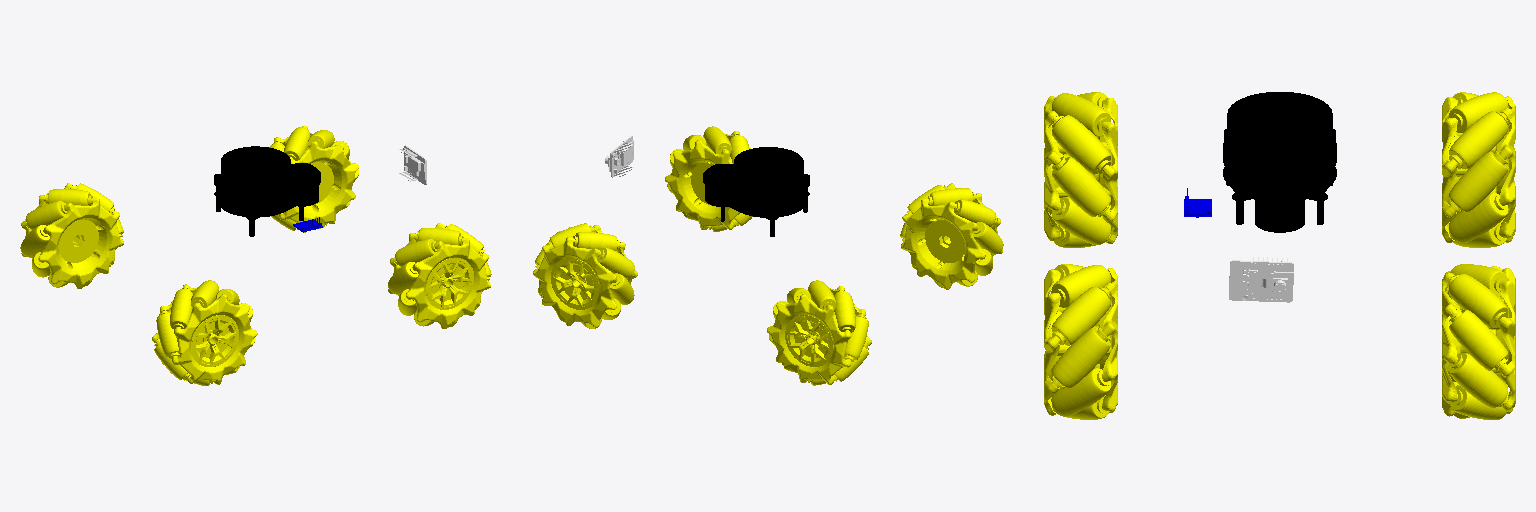
URDF robot description (MECNUMROBOT):
<?xml version="1.0" encoding="utf-8"?>
<!-- This URDF was automatically created by SolidWorks to URDF Exporter! Originally created by [author] ([email redacted]) 
     Commit Version: 1.6.0-4-g7f85cfe  Build Version: 1.6.7995.38578
     For more information, please see http://wiki.ros.org/sw_urdf_exporter -->
<robot
  name="MECNUMROBOT">
  <link
    name="base_link">
    <inertial>
      <origin
        xyz="0.0004486 0.00083903 -0.022532"
        rpy="0 0 0" />
      <mass
        value="3.558" />
      <inertia
        ixx="0.0092111"
        ixy="-1.6996E-05"
        ixz="4.6457E-06"
        iyy="0.019941"
        iyz="-1.5765E-07"
        izz="0.027091" />
    </inertial>
    <visual>
      <origin
        xyz="0 0 0"
        rpy="0 0 0" />
      <geometry>
        <mesh
          filename="package://MECNUMROBOT/meshes/base_link.STL" />
      </geometry>
      <material
        name="">
        <color
          rgba="1 0.5 0 1" />
      </material>
    </visual>
    <collision>
      <origin
        xyz="0 0 0"
        rpy="0 0 0" />
      <geometry>
        <mesh
          filename="package://MECNUMROBOT/meshes/base_link.STL" />
      </geometry>
    </collision>
  </link>
  <link
    name="rear_right_wheel">
    <inertial>
      <origin
        xyz="-2.2835E-06 3.7979E-07 0.00071836"
        rpy="0 0 0" />
      <mass
        value="1.0289" />
      <inertia
        ixx="0.00017755"
        ixy="1.2488E-08"
        ixz="-2.5268E-09"
        iyy="0.00017761"
        iyz="-1.3435E-08"
        izz="0.00022365" />
    </inertial>
    <visual>
      <origin
        xyz="0 0 0"
        rpy="0 0 0" />
      <geometry>
        <mesh
          filename="package://MECNUMROBOT/meshes/rear_right_wheel.STL" />
      </geometry>
      <material
        name="">
        <color
          rgba="1 1 0 1" />
      </material>
    </visual>
    <collision>
      <origin
        xyz="0 0 0"
        rpy="0 0 0" />
      <geometry>
        <mesh
          filename="package://MECNUMROBOT/meshes/rear_right_wheel.STL" />
      </geometry>
    </collision>
  </link>
  <joint
    name="rear_right_wheel_wheel"
    type="continuous">
    <origin
      xyz="-0.1265 -0.12365 -0.03885"
      rpy="-1.5708 0 -3.1416" />
    <parent
      link="base_link" />
    <child
      link="rear_right_wheel" />
    <axis
      xyz="0 0 1" />
  </joint>
  <link
    name="front_right_wheel">
    <inertial>
      <origin
        xyz="1.4264E-06 1.6554E-06 0.00077886"
        rpy="0 0 0" />
      <mass
        value="1.0289" />
      <inertia
        ixx="0.00017758"
        ixy="-3.4031E-08"
        ixz="1.0423E-08"
        iyy="0.00017757"
        iyz="-8.8206E-09"
        izz="0.00022365" />
    </inertial>
    <visual>
      <origin
        xyz="0 0 0"
        rpy="0 0 0" />
      <geometry>
        <mesh
          filename="package://MECNUMROBOT/meshes/front_right_wheel.STL" />
      </geometry>
      <material
        name="">
        <color
          rgba="1 1 0 1" />
      </material>
    </visual>
    <collision>
      <origin
        xyz="0 0 0"
        rpy="0 0 0" />
      <geometry>
        <mesh
          filename="package://MECNUMROBOT/meshes/front_right_wheel.STL" />
      </geometry>
    </collision>
  </link>
  <joint
    name="front_right_wheel_joint"
    type="continuous">
    <origin
      xyz="0.1265 -0.12365 -0.03885"
      rpy="-1.5708 0 -3.1416" />
    <parent
      link="base_link" />
    <child
      link="front_right_wheel" />
    <axis
      xyz="0 0 1" />
  </joint>
  <link
    name="front_left_wheel">
    <inertial>
      <origin
        xyz="1.405E-06 -1.8181E-06 -0.00071849"
        rpy="0 0 0" />
      <mass
        value="1.0289" />
      <inertia
        ixx="0.00017759"
        ixy="3.2579E-08"
        ixz="1.1318E-08"
        iyy="0.00017757"
        iyz="7.7617E-09"
        izz="0.00022365" />
    </inertial>
    <visual>
      <origin
        xyz="0 0 0"
        rpy="0 0 0" />
      <geometry>
        <mesh
          filename="package://MECNUMROBOT/meshes/front_left_wheel.STL" />
      </geometry>
      <material
        name="">
        <color
          rgba="1 1 0 1" />
      </material>
    </visual>
    <collision>
      <origin
        xyz="0 0 0"
        rpy="0 0 0" />
      <geometry>
        <mesh
          filename="package://MECNUMROBOT/meshes/front_left_wheel.STL" />
      </geometry>
    </collision>
  </link>
  <joint
    name="front_left_wheel_joint"
    type="continuous">
    <origin
      xyz="0.1265 0.12365 -0.03885"
      rpy="-1.5708 0 -3.1416" />
    <parent
      link="base_link" />
    <child
      link="front_left_wheel" />
    <axis
      xyz="0 0 1" />
  </joint>
  <link
    name="rear_left_wheel">
    <inertial>
      <origin
        xyz="-1.5059E-06 1.5491E-06 -0.00077889"
        rpy="0 0 0" />
      <mass
        value="1.0289" />
      <inertia
        ixx="0.00017758"
        ixy="3.4608E-08"
        ixz="9.6664E-09"
        iyy="0.00017758"
        iyz="9.6256E-09"
        izz="0.00022365" />
    </inertial>
    <visual>
      <origin
        xyz="0 0 0"
        rpy="0 0 0" />
      <geometry>
        <mesh
          filename="package://MECNUMROBOT/meshes/rear_left_wheel.STL" />
      </geometry>
      <material
        name="">
        <color
          rgba="1 1 0 1" />
      </material>
    </visual>
    <collision>
      <origin
        xyz="0 0 0"
        rpy="0 0 0" />
      <geometry>
        <mesh
          filename="package://MECNUMROBOT/meshes/rear_left_wheel.STL" />
      </geometry>
    </collision>
  </link>
  <joint
    name="rear_left_wheel_joint"
    type="continuous">
    <origin
      xyz="-0.1265 0.12365 -0.03885"
      rpy="-1.5708 0 -3.1416" />
    <parent
      link="base_link" />
    <child
      link="rear_left_wheel" />
    <axis
      xyz="0 0 1" />
  </joint>
  <link
    name="lidar">
    <inertial>
      <origin
        xyz="0.0082941 1.1168E-14 -0.0085489"
        rpy="0 0 0" />
      <mass
        value="0.1467" />
      <inertia
        ixx="6.2272E-05"
        ixy="-6.6101E-18"
        ixz="1.8866E-05"
        iyy="0.00010967"
        iyz="2.1232E-16"
        izz="0.00012568" />
    </inertial>
    <visual>
      <origin
        xyz="0 0 0"
        rpy="0 0 0" />
      <geometry>
        <mesh
          filename="package://MECNUMROBOT/meshes/lidar.STL" />
      </geometry>
      <material
        name="">
        <color
          rgba="0 0 0 1" />
      </material>
    </visual>
    <collision>
      <origin
        xyz="0 0 0"
        rpy="0 0 0" />
      <geometry>
        <mesh
          filename="package://MECNUMROBOT/meshes/lidar.STL" />
      </geometry>
    </collision>
  </link>
  <joint
    name="lidar_joint"
    type="fixed">
    <origin
      xyz="0 0 0.04625"
      rpy="0 0 0" />
    <parent
      link="base_link" />
    <child
      link="lidar" />
    <axis
      xyz="0 0 0" />
  </joint>
  <link
    name="camera">
    <inertial>
      <origin
        xyz="-0.0093756 -0.011232 0.00073677"
        rpy="0 0 0" />
      <mass
        value="0.0036832" />
      <inertia
        ixx="5.5289E-07"
        ixy="-3.5562E-08"
        ixz="3.9449E-09"
        iyy="1.8082E-07"
        iyz="9.4699E-09"
        izz="4.2671E-07" />
    </inertial>
    <visual>
      <origin
        xyz="0 0 0"
        rpy="0 0 0" />
      <geometry>
        <mesh
          filename="package://MECNUMROBOT/meshes/camera.STL" />
      </geometry>
      <material
        name="">
        <color
          rgba="1 1 1 1" />
      </material>
    </visual>
    <collision>
      <origin
        xyz="0 0 0"
        rpy="0 0 0" />
      <geometry>
        <mesh
          filename="package://MECNUMROBOT/meshes/camera.STL" />
      </geometry>
    </collision>
  </link>
  <joint
    name="camera_joint"
    type="fixed">
    <origin
      xyz="0.17435 0 0.02045"
      rpy="0 0 0" />
    <parent
      link="base_link" />
    <child
      link="camera" />
    <axis
      xyz="0 0 0" />
  </joint>
  <link
    name="imu">
    <inertial>
      <origin
        xyz="-3.9295E-05 -0.0014664 -0.00041921"
        rpy="0 0 0" />
      <mass
        value="0.00077106" />
      <inertia
        ixx="1.3877E-08"
        ixy="7.6765E-10"
        ixz="-7.5369E-15"
        iyy="2.6926E-08"
        iyz="-2.4674E-15"
        izz="3.9518E-08" />
    </inertial>
    <visual>
      <origin
        xyz="0 0 0"
        rpy="0 0 0" />
      <geometry>
        <mesh
          filename="package://MECNUMROBOT/meshes/imu.STL" />
      </geometry>
      <material
        name="">
        <color
          rgba="0 0 1 1" />
      </material>
    </visual>
    <collision>
      <origin
        xyz="0 0 0"
        rpy="0 0 0" />
      <geometry>
        <mesh
          filename="package://MECNUMROBOT/meshes/imu.STL" />
      </geometry>
    </collision>
  </link>
  <joint
    name="imu_joint"
    type="fixed">
    <origin
      xyz="0.026514 -0.050753 0.00761"
      rpy="0 0 0" />
    <parent
      link="base_link" />
    <child
      link="imu" />
    <axis
      xyz="0 0 0" />
  </joint>
</robot>

--- Facts derived from the render (not from the file) ---
Views: 3 orthographic renders of the robot side by side, from view 1: azimuth 30°, elevation 25°; view 2: azimuth 150°, elevation 25°; view 3: azimuth 270°, elevation 25°.
Model MECNUMROBOT with 8 links and 7 joints (4 continuous, 3 fixed), rooted at base_link, posed all joints at 0.
Links seen in each view (by area): view 1: rear_left_wheel, front_right_wheel, rear_right_wheel, lidar, front_left_wheel, camera; view 2: rear_right_wheel, rear_left_wheel, front_left_wheel, lidar, front_right_wheel, camera; view 3: lidar, front_left_wheel, front_right_wheel, rear_right_wheel, rear_left_wheel, camera, imu.
Link boxes in pixels (<box>): rear_left_wheel: <box>20,183,123,288</box>; front_right_wheel: <box>388,223,491,328</box>; rear_right_wheel: <box>152,280,257,385</box>; lidar: <box>214,146,320,236</box>; front_left_wheel: <box>269,126,358,232</box>; camera: <box>399,145,426,184</box>; rear_right_wheel: <box>900,183,1003,289</box>; rear_left_wheel: <box>767,280,871,385</box>; front_left_wheel: <box>533,223,637,328</box>; lidar: <box>703,147,809,236</box>; front_right_wheel: <box>665,126,752,231</box>; camera: <box>605,136,633,177</box>; lidar: <box>1223,92,1336,232</box>; front_left_wheel: <box>1442,264,1515,419</box>; front_right_wheel: <box>1044,264,1117,419</box>; rear_right_wheel: <box>1044,92,1117,247</box>; rear_left_wheel: <box>1442,92,1515,247</box>; camera: <box>1229,257,1293,302</box>; imu: <box>1184,188,1211,217</box>.
Size in the robot's own frame: 0.3505 by 0.2933 by 0.1467 metres.
7 mesh visuals loaded from 8 distinct referenced files (7 binary STL); not drawn: 1 (reference not matched to a file when rendering).